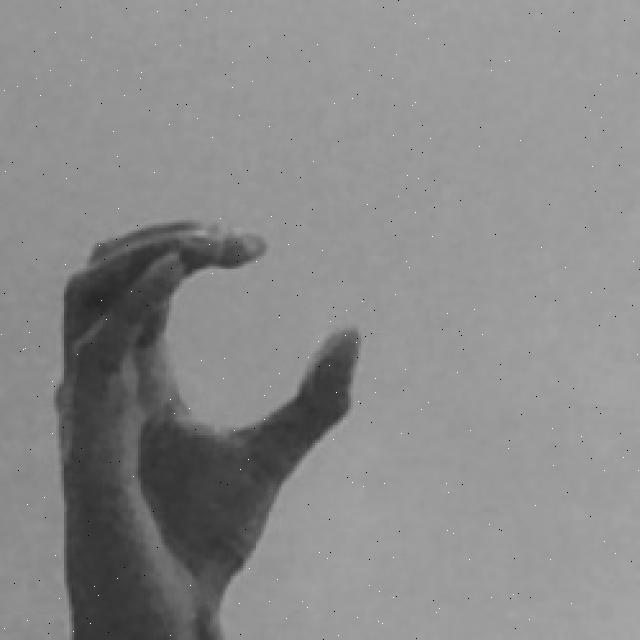C: (49, 215, 361, 640)
